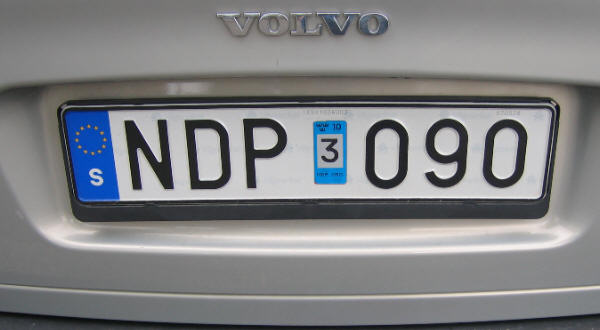license_plate: (62, 102, 554, 205)
